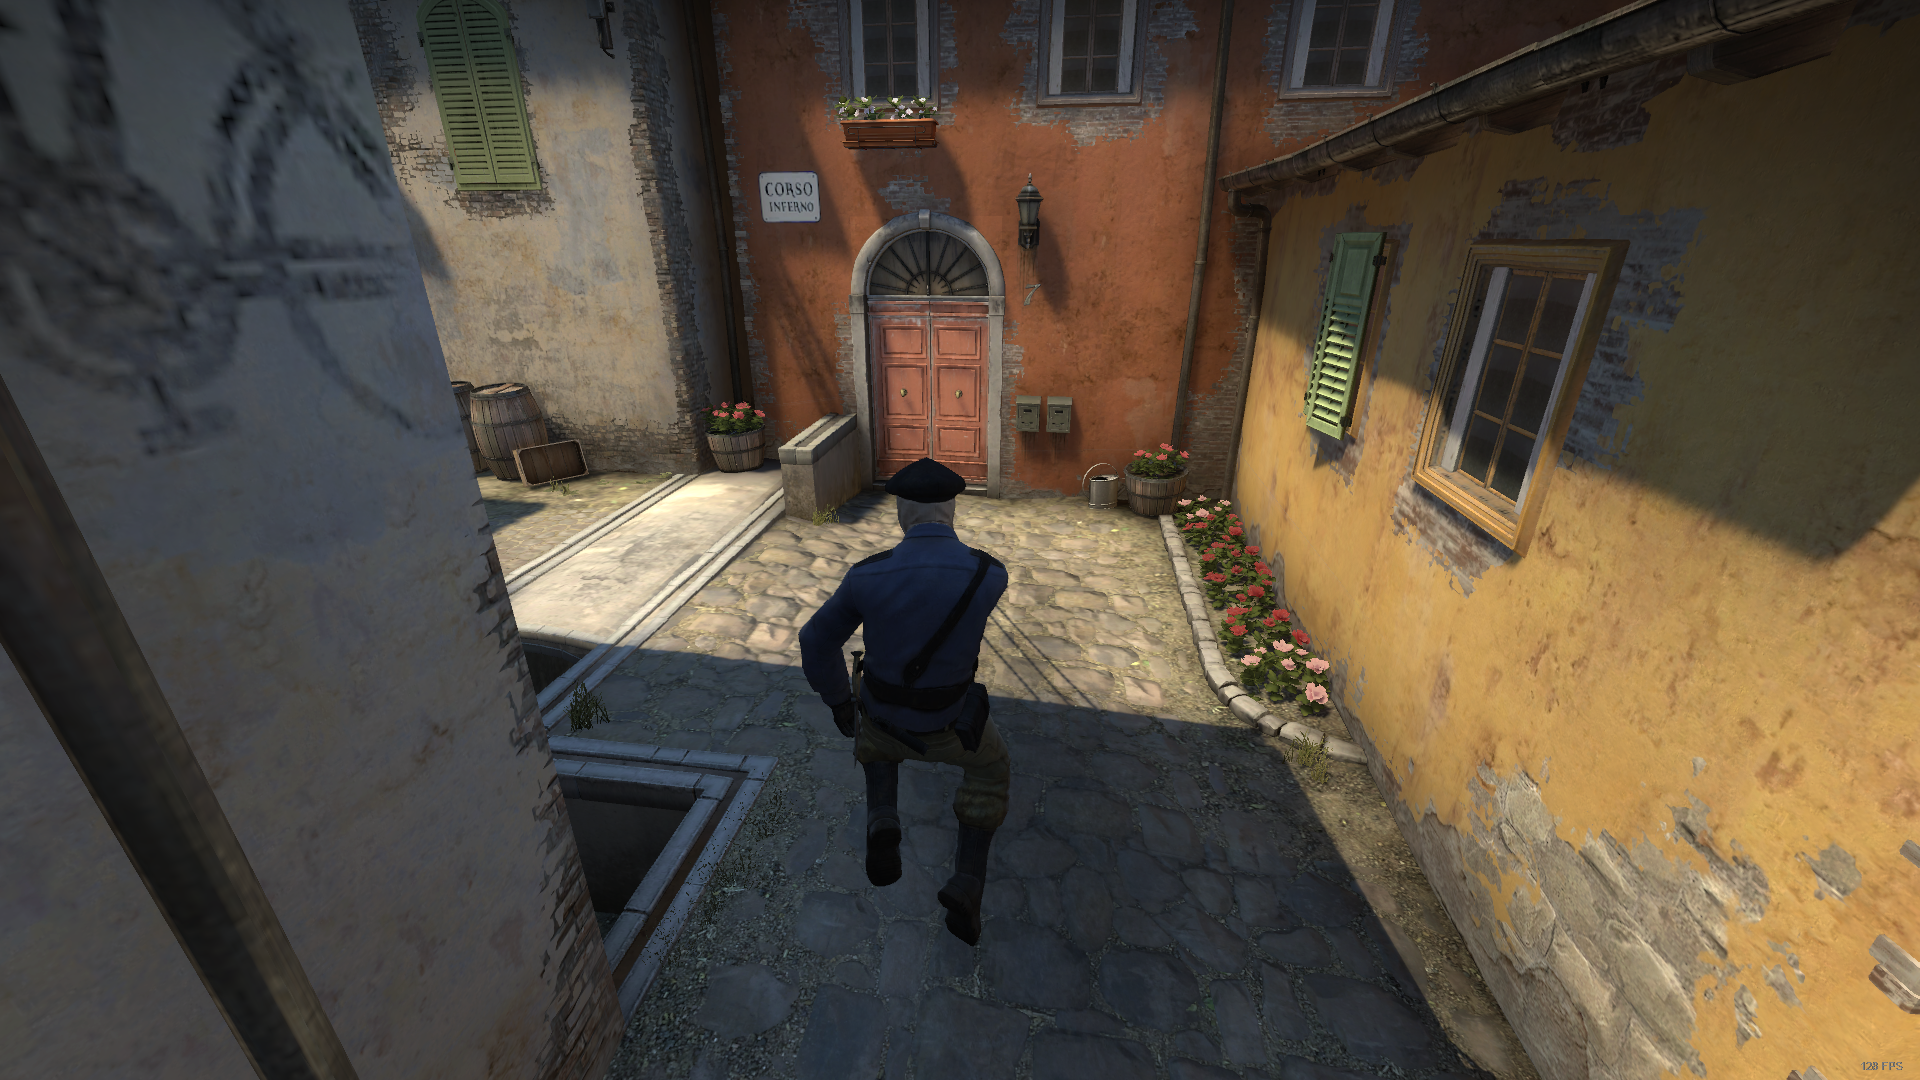t: (789, 448, 1033, 949)
